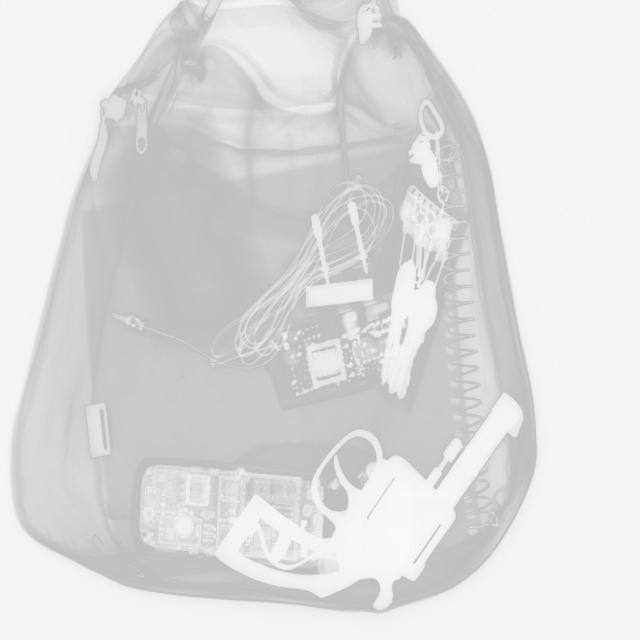pistol: (216, 392, 524, 610)
